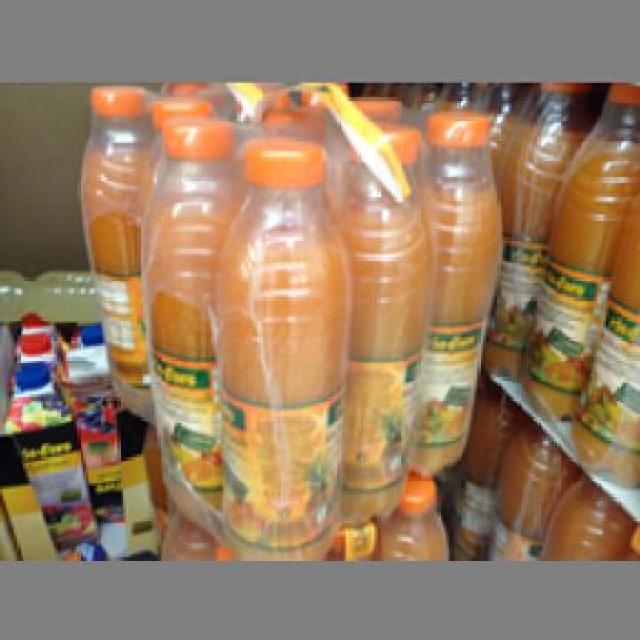Juice: (213, 132, 349, 554), (337, 114, 437, 520), (136, 117, 230, 500)
